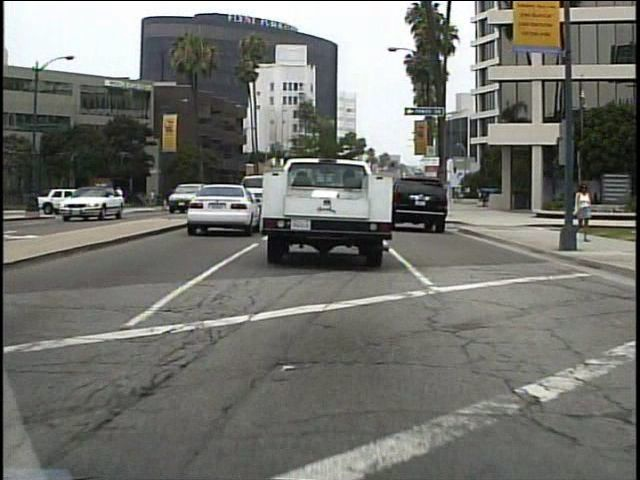person: (572, 176, 593, 247), (108, 181, 123, 214), (107, 189, 122, 220), (150, 188, 159, 209)
